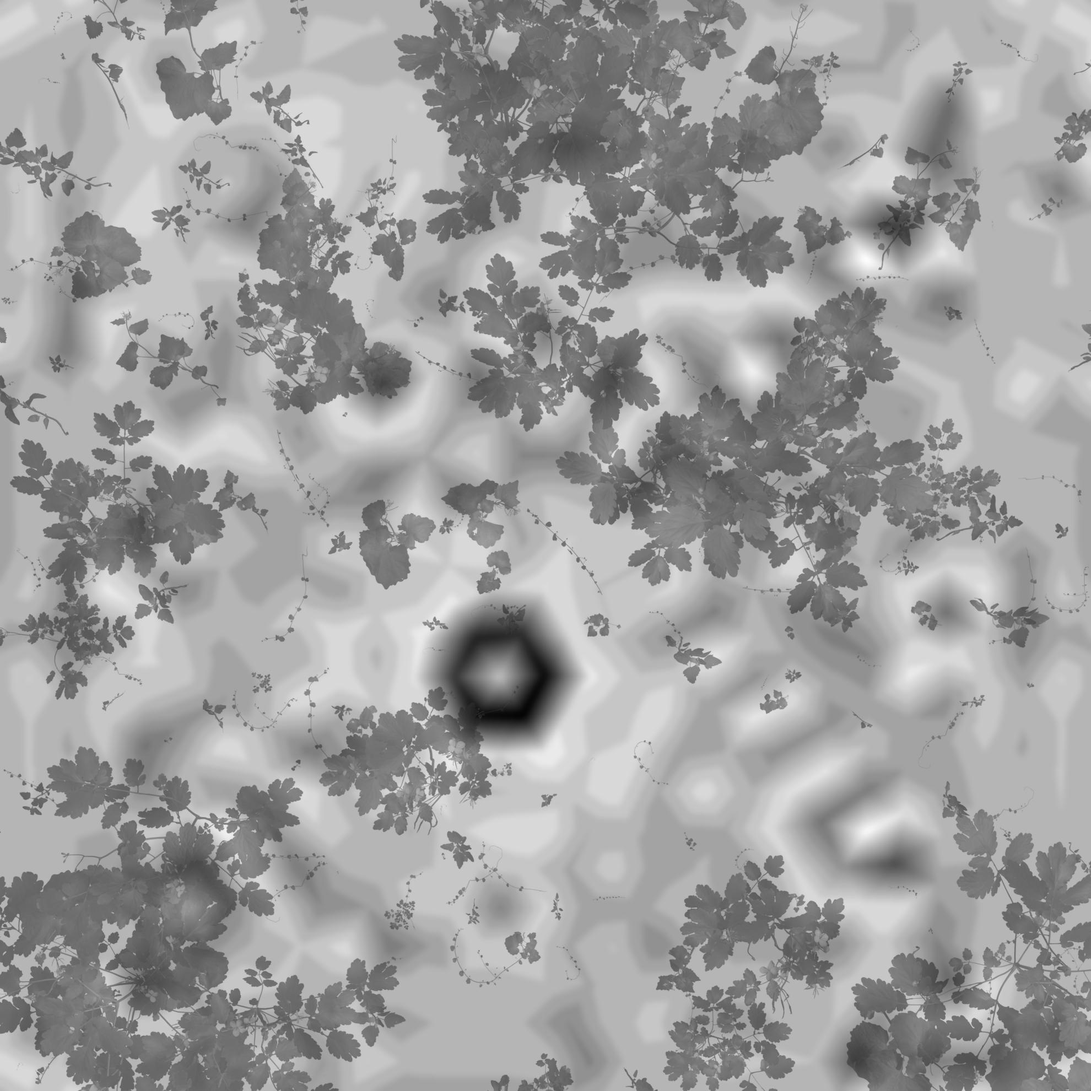landmine: (433, 600, 569, 742), (169, 119, 298, 250)
